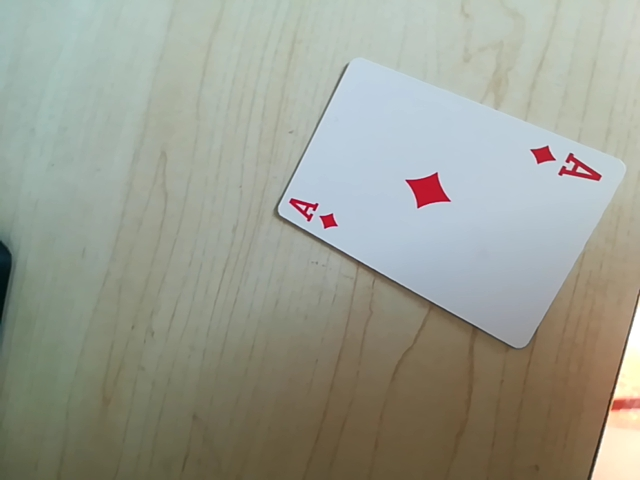fk a: (525, 142, 608, 190), (277, 191, 345, 236), (611, 388, 638, 421)
